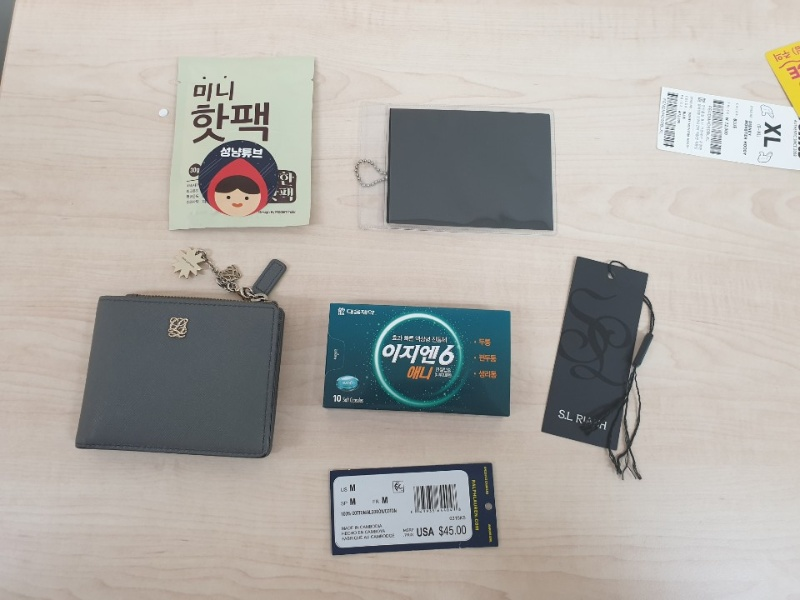ezn: (322, 301, 510, 419)
